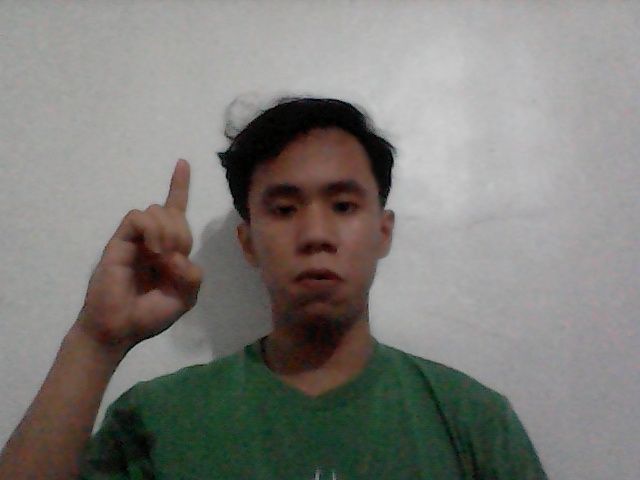D: (62, 145, 225, 369)
